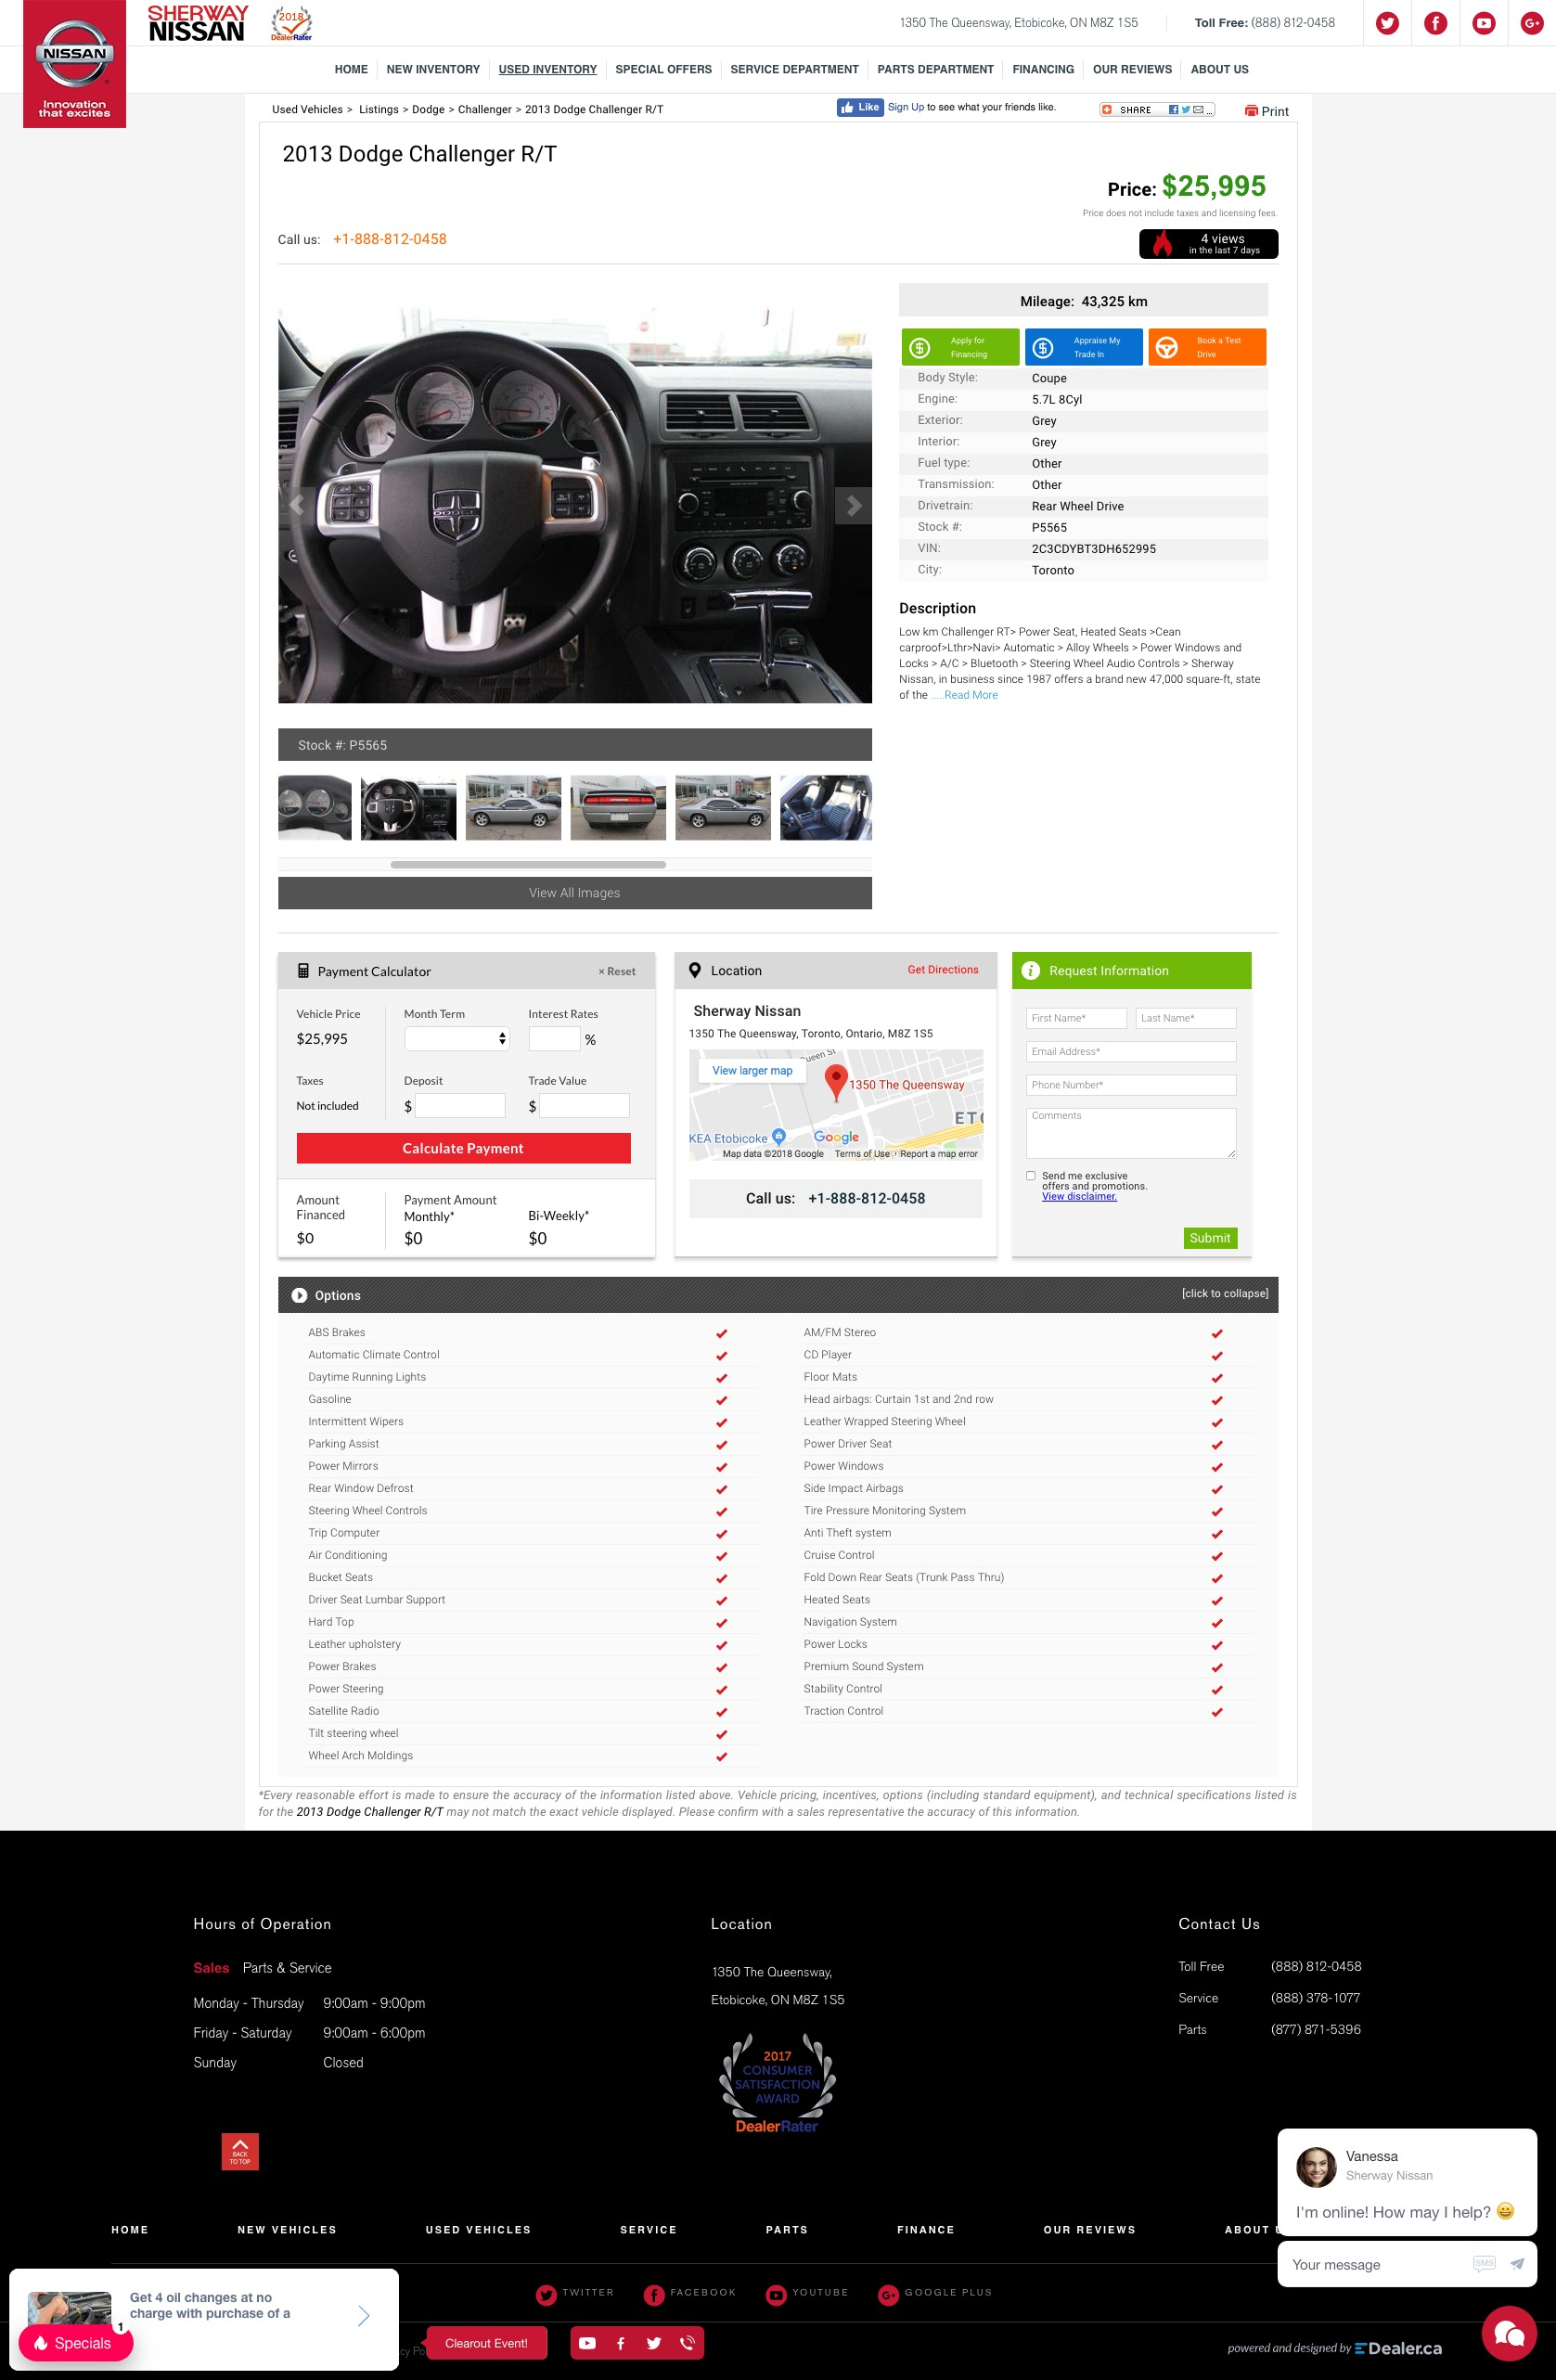car: (834, 486, 875, 528)
